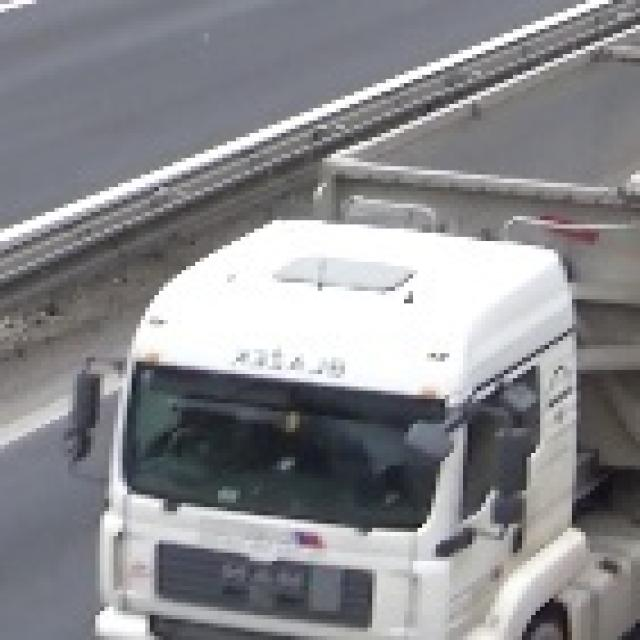TRUCK: (91, 37, 640, 640)
